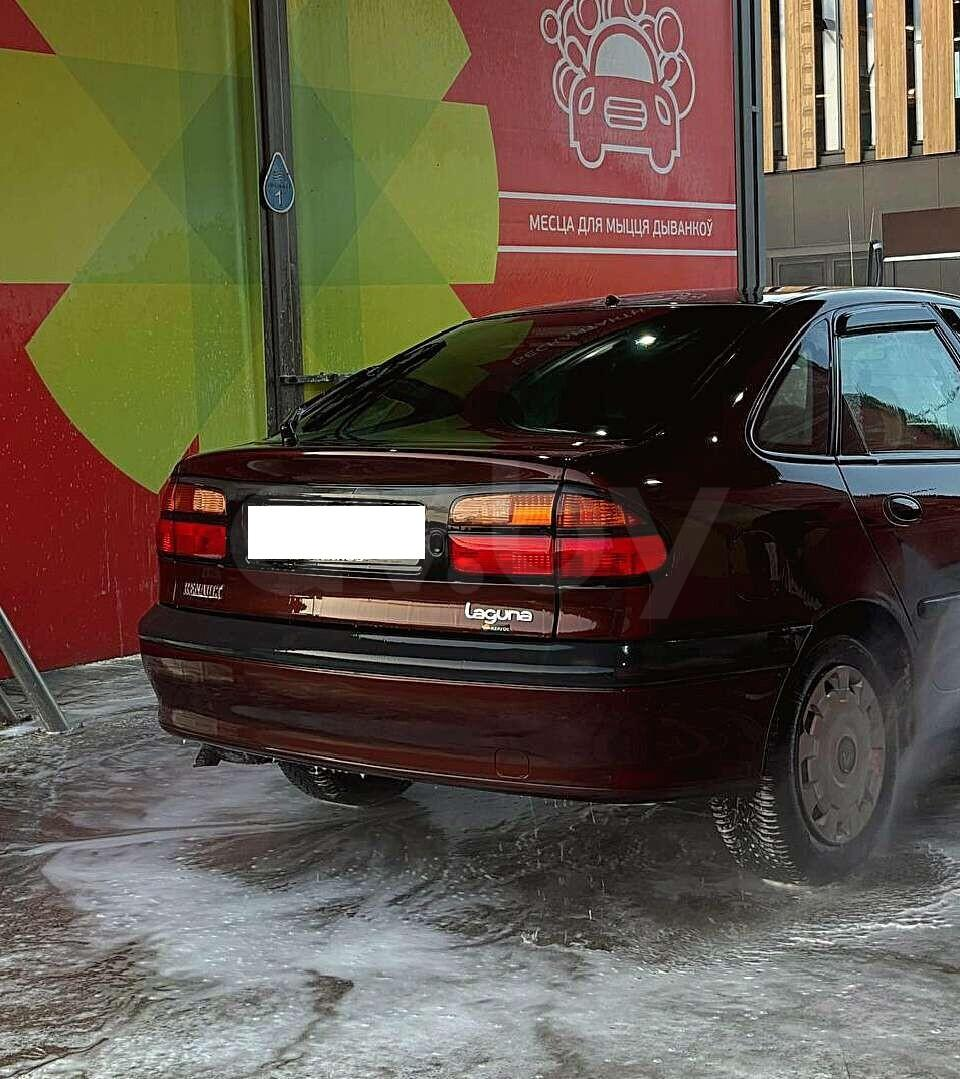Laguna_1998-2001: (130, 271, 960, 886)
